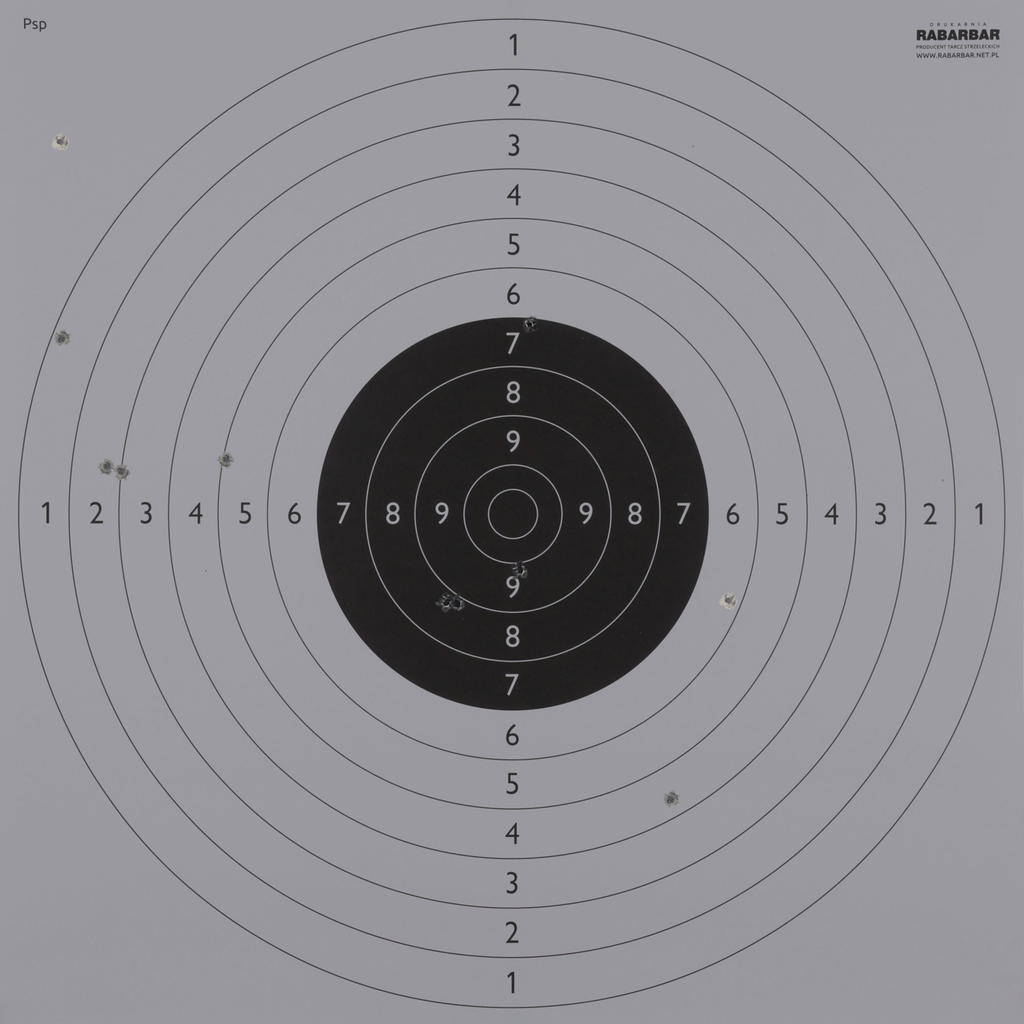0 punktow: (51, 132, 70, 151)
1 punkt: (53, 329, 71, 348)
10 punktow: (511, 560, 529, 579)
2 punkty: (98, 457, 116, 476)
3 punkty: (112, 462, 131, 481)
4 punkty: (662, 790, 680, 809)
5 punktow: (217, 450, 235, 469)
6 punktow: (719, 591, 738, 610)
7 punktow: (520, 315, 539, 334)
8 punktow: (437, 593, 456, 611)
9 punktow: (448, 594, 466, 613)
